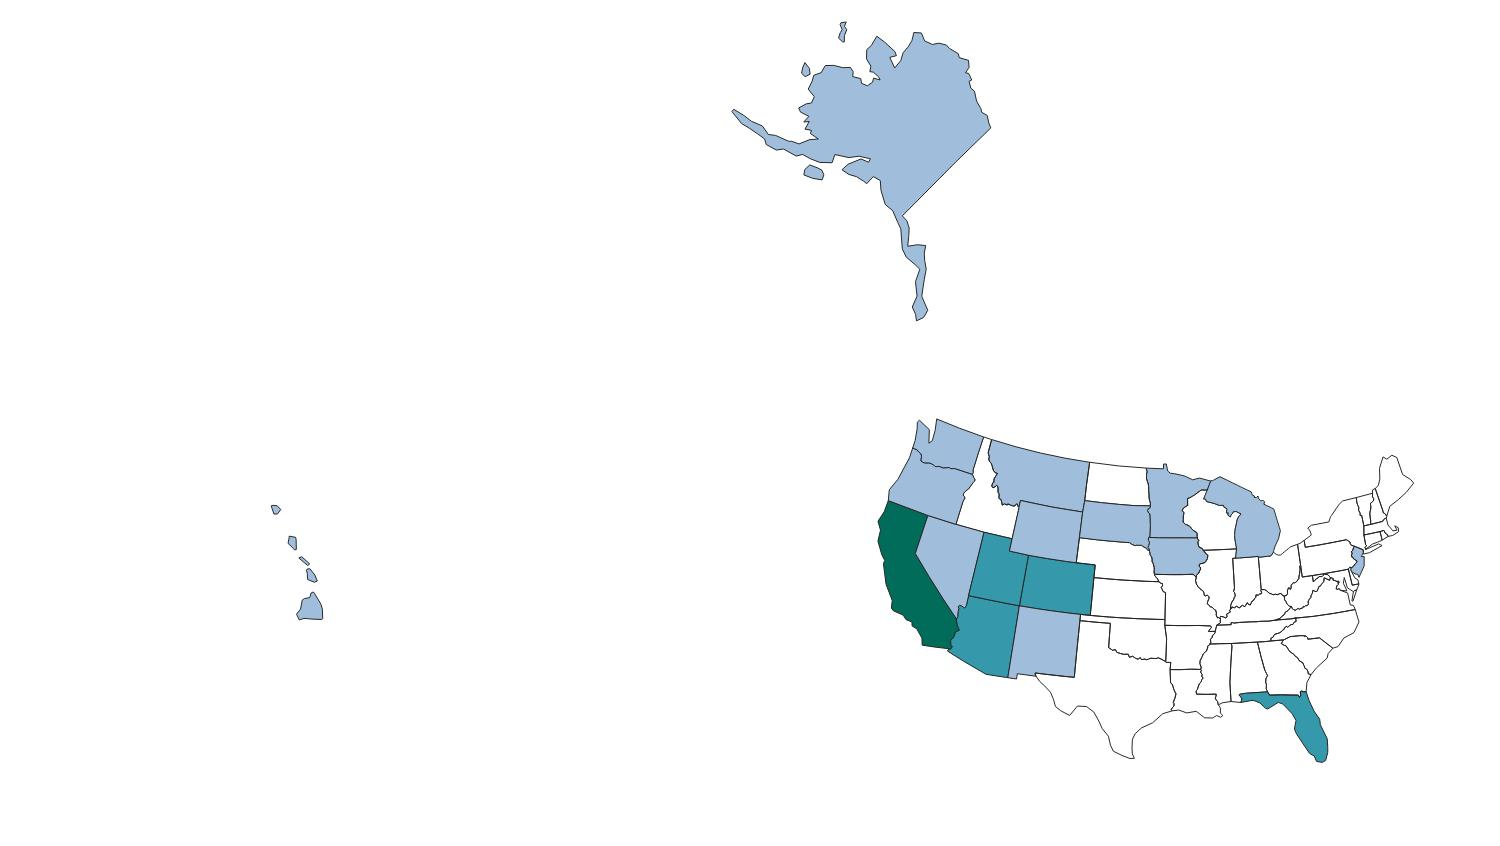

What the dashboard file says about the page in this screenshot:
{"tool":"tableau","page":{"name":"Map of Higher Ed Degrees","canvas":[1000,800],"ordinal":1},"visuals":[{"type":"worksheet","title":"Map","mark":"Automatic","box":[8,8,984,784]},{"type":"legend","title":"Map","param":"[federated.08yv7lo1pgmnho1asp2lq1pnhtfd].[sum:Total_Population_25_over_Bachelor'","box":[243,88,477,29]}]}

Visuals, with their boxes on the page's 1000x800 design canvas (x1, y1, x2, y2). These are canvas units, not pixel positions in the 1500x846 screenshot, which may show the page scaled, cropped or inside an application window:
"Map" worksheet: (left=8, top=8, right=992, bottom=792)
"Map" legend: (left=243, top=88, right=720, bottom=117)
